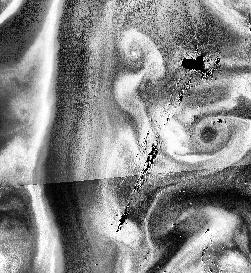CE: (189, 112, 241, 159), (118, 27, 153, 61)
